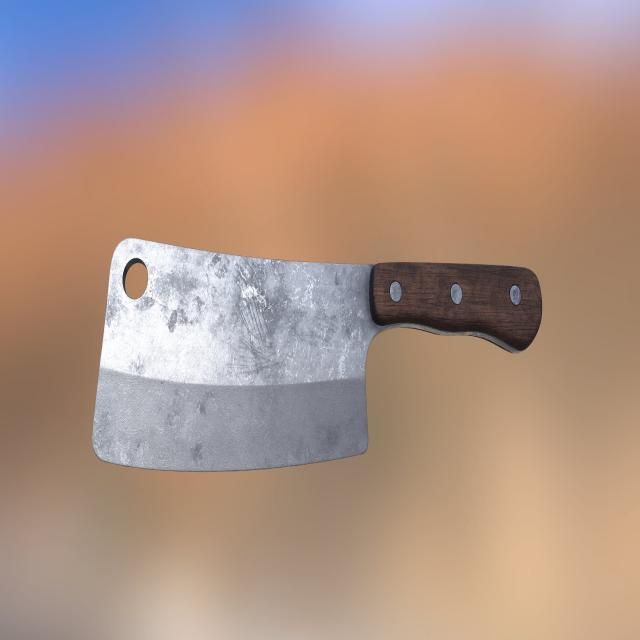cleaver: (97, 240, 537, 468)
